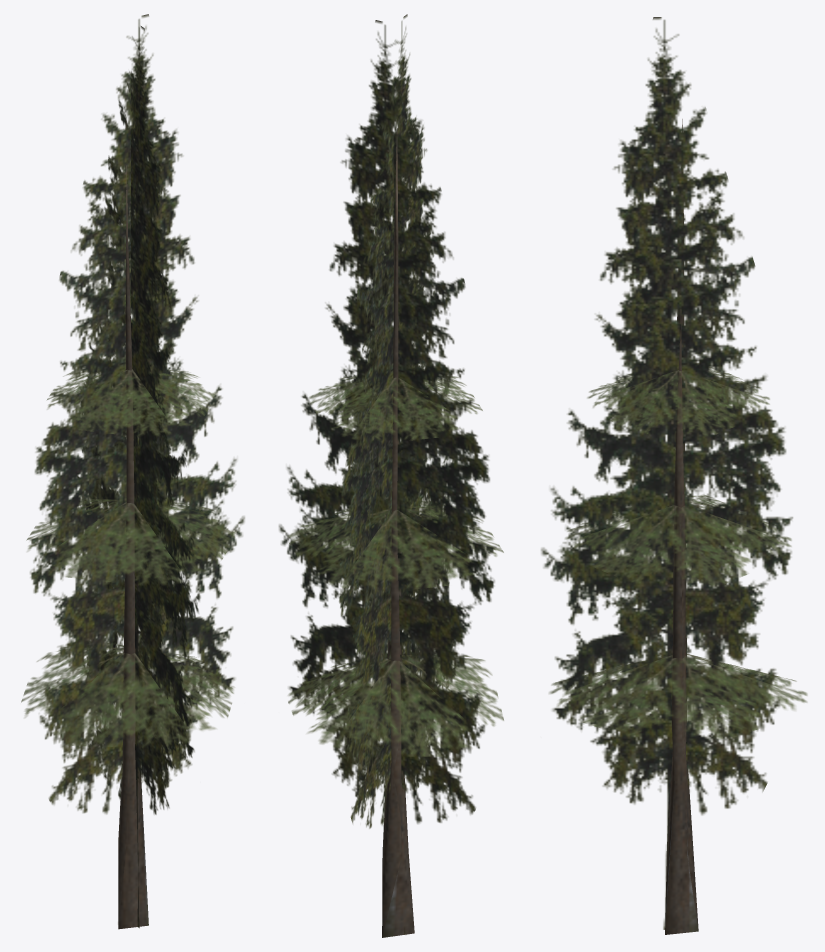
Rendered from forest_bg_tree_04.glb.
3 renders of one model, left to right at view 1: azimuth 30°, elevation 25°; view 2: azimuth 150°, elevation 25°; view 3: azimuth 270°, elevation 25°, orthographic.
Parts seen in each view (by area): view 1: Background_Tree_Atlas.003_Background_Tree_Atlas_0; view 2: Background_Tree_Atlas.003_Background_Tree_Atlas_0; view 3: Background_Tree_Atlas.003_Background_Tree_Atlas_0.
Part boxes in pixels (bbox=[...]): Background_Tree_Atlas.003_Background_Tree_Atlas_0: bbox=[21, 14, 244, 929]; Background_Tree_Atlas.003_Background_Tree_Atlas_0: bbox=[279, 14, 503, 937]; Background_Tree_Atlas.003_Background_Tree_Atlas_0: bbox=[541, 17, 807, 934].
Bounding box in the file's own units: 1.16 × 4.5 × 1.22.
Materials: 1 (1 with a texture image).
